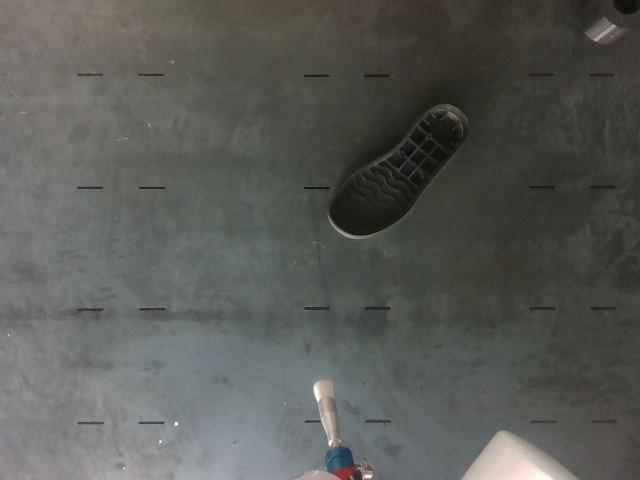shoes: (329, 106, 468, 236)
